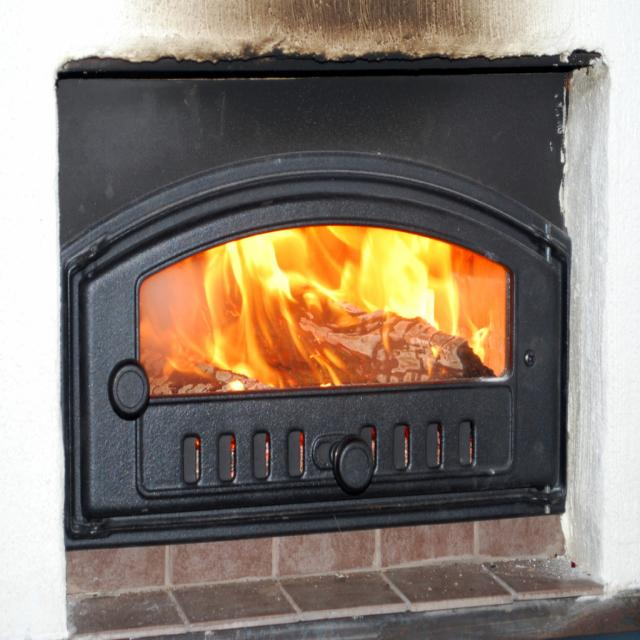fire: (204, 251, 468, 366)
